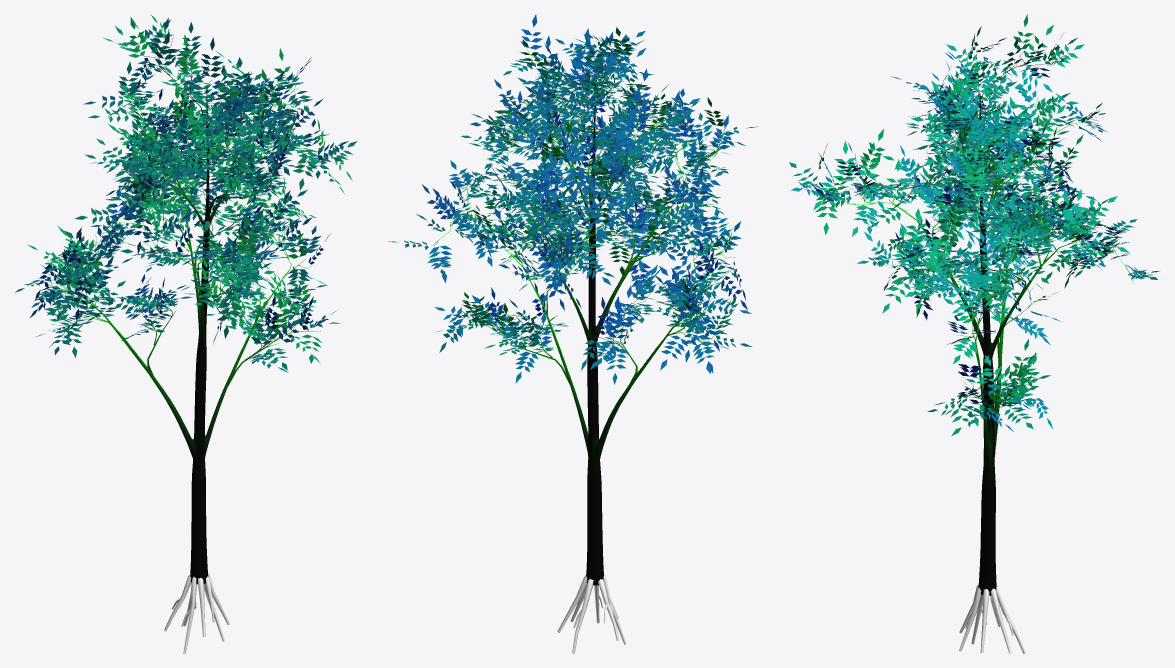
3 renders of one model, left to right at view 1: azimuth 30°, elevation 25°; view 2: azimuth 150°, elevation 25°; view 3: azimuth 270°, elevation 25°, orthographic.
Visible parts, largest first — view 1: Foliage, Twigs, Trunk, Branches, RootTips; view 2: Foliage, Twigs, Trunk, Branches, RootTips; view 3: Foliage, Twigs, Trunk, RootTips, Branches.
Boxes of the visible parts, x1,y1,x2,y2 form: Foliage: (15, 15, 357, 372); Twigs: (47, 35, 335, 394); Trunk: (190, 176, 210, 584); Branches: (101, 172, 277, 461); RootTips: (164, 573, 229, 653); Foliage: (388, 14, 758, 384); Twigs: (432, 43, 735, 401); Trunk: (586, 174, 603, 585); Branches: (535, 163, 661, 463); RootTips: (557, 574, 626, 653); Foliage: (789, 14, 1159, 435); Twigs: (809, 47, 1133, 438); Trunk: (978, 195, 996, 595); RootTips: (959, 585, 1025, 653); Branches: (938, 186, 1048, 472).
Size of the model in its own units: 12254 by 12451 by 23103.
